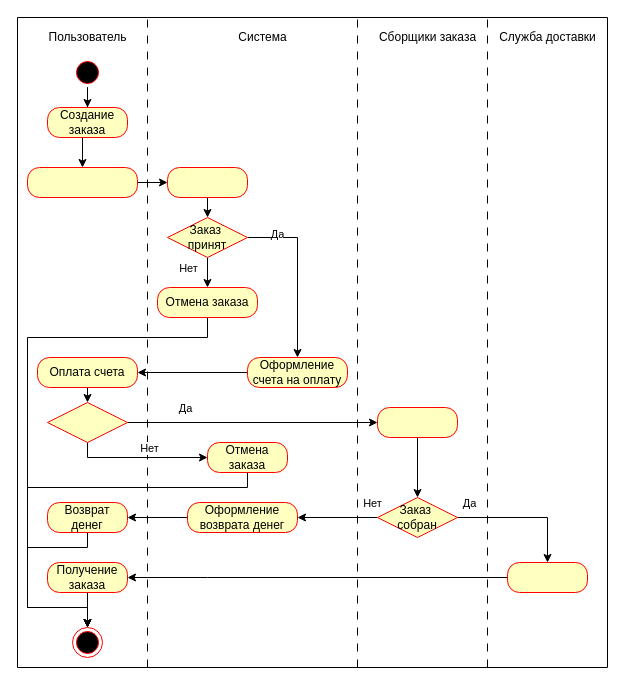
Some shapes in this 626 by 686 pixel diagram are drawn without their labels. The box of each missing label's shape, as (x1, y1, x2, y2) in pixels:
Обработка заказа: (166, 166, 248, 198)
Отправка клиенту: (506, 562, 588, 592)
Редактирование заказа: (26, 166, 138, 198)
Сбор заказа: (376, 406, 458, 438)
Счет оплачен: (46, 402, 128, 442)
